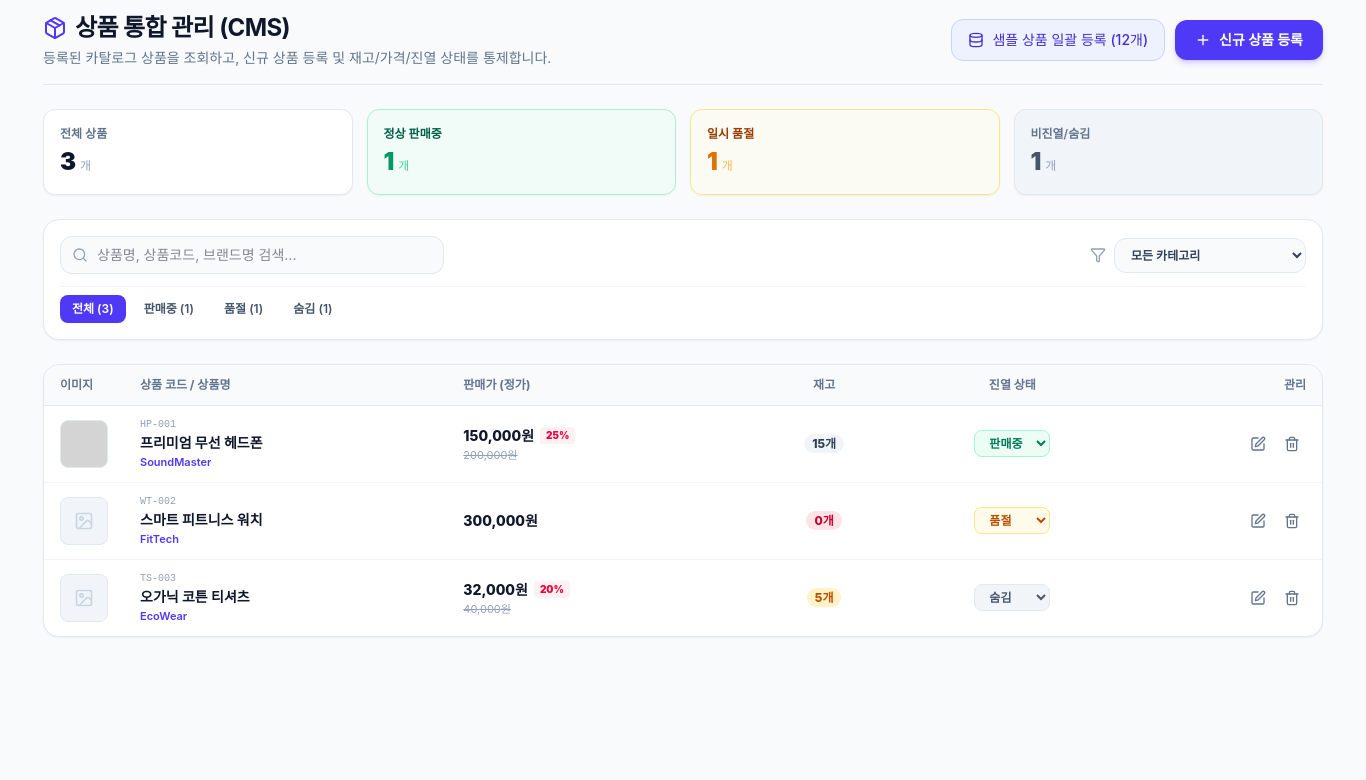
Scenario: AdminProductListViewer Component › 상품명이나 코드로 검색 시 일치하는 상품만 필터링된다
Type "HP-001" into the field with placeholder "상품명, 상품코드, 브랜드명 검색...".
click(252, 255); type("HP-001")  # box [60, 236, 444, 274]
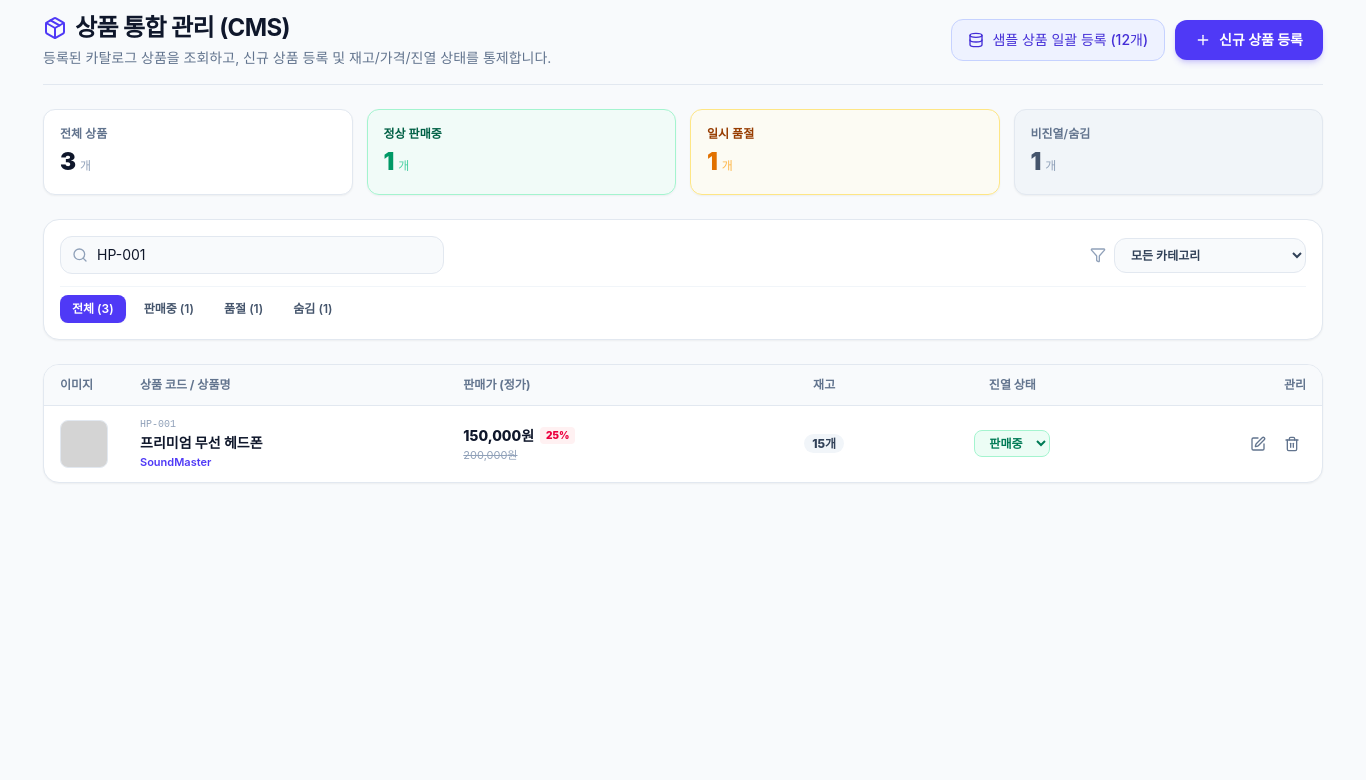
Expected: the text "프리미엄 무선 헤드폰" is shown, [140, 434, 263, 451]
Result: the text "스마트 피트니스 워치" is gone
Result: the text "오가닉 코튼 티셔츠" is gone
